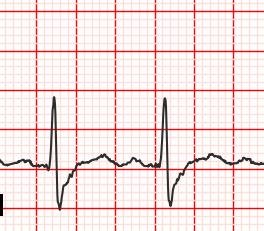ST Depression: (46, 156, 83, 213), (154, 161, 194, 208)
